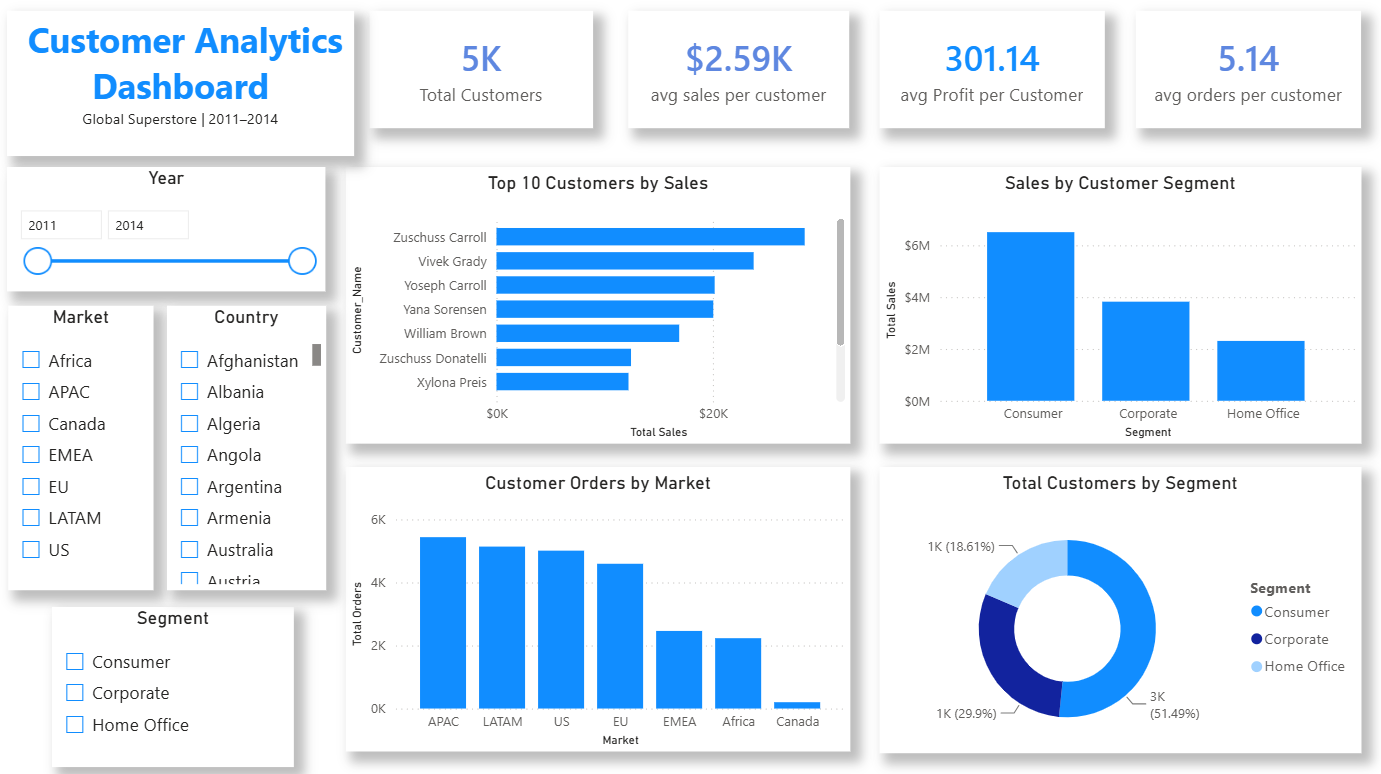

The page's visual inventory and layout, read from the dashboard file:
{"tool":"powerbi","page":{"name":"Page 3","canvas":[1280,720],"ordinal":2},"visuals":[{"type":"cardVisual","fields":{"Data":["Measures (2).Total Customers"]},"box":[342.9,13.1,206,108.3],"z":0},{"type":"cardVisual","fields":{"Data":["Measures (2).Average Sales per Customer"]},"box":[581,13.1,203.6,108.3],"z":1000},{"type":"cardVisual","fields":{"Data":["Measures (2).Average Profit per Customer"]},"box":[811.9,13.1,207.1,108.3],"z":2000},{"type":"cardVisual","fields":{"Data":["Measures (2).Average Orders per Customer"]},"box":[1047.6,13.1,207.1,108.3],"z":3000},{"type":"barChart","title":"Top 10 Customers by Sales","fields":{"Y":["Measures (2).Total Sales"],"Category":["superstore1.Customer_Name"]},"box":[320.2,156,464.3,254.8],"z":4000},{"type":"columnChart","title":"Sales by Customer Segment","fields":{"Y":["Measures (2).Total Sales"],"Category":["superstore1.Segment"]},"box":[811.9,156,442.9,254.8],"z":5000},{"type":"columnChart","title":"Customer Orders by Market","fields":{"Category":["superstore1.Market"],"Y":["Measures (2).Total Orders"]},"box":[320.2,432.1,464.3,261.9],"z":6000},{"type":"donutChart","title":"Total Customers by Segment","fields":{"Category":["superstore1.Segment"],"Y":["Measures (2).Total Customers"]},"box":[811.9,432.1,442.9,263.1],"z":7000},{"type":"textbox","box":[9.5,13.1,319,133.3],"z":8000},{"type":"slicer","title":"Year","fields":{"Values":["Calendar.Year"]},"box":[9.5,156,292.9,114.3],"z":9000},{"type":"slicer","title":"Market","fields":{"Values":["superstore1.Market"]},"box":[10,283.8,133.8,261.2],"z":10000},{"type":"slicer","title":"Segment","fields":{"Values":["superstore1.Segment"]},"box":[50,561.2,222.5,147.5],"z":11000},{"type":"slicer","title":"Country","fields":{"Values":["superstore1.Country"]},"box":[156.2,283.8,146.2,261.2],"z":12000}]}

Visuals, with their boxes in screenshot pixels (x1, y1, x2, y2), scaled from the page's 1280x720 canvas onto the 1381x774 screenshot:
cardVisual - Measures (2).Total Customers: left=370, top=14, right=592, bottom=131
cardVisual - Measures (2).Average Sales per Customer: left=627, top=14, right=847, bottom=131
cardVisual - Measures (2).Average Profit per Customer: left=876, top=14, right=1099, bottom=131
cardVisual - Measures (2).Average Orders per Customer: left=1130, top=14, right=1354, bottom=131
"Top 10 Customers by Sales" barChart: left=345, top=168, right=846, bottom=442
"Sales by Customer Segment" columnChart: left=876, top=168, right=1354, bottom=442
"Customer Orders by Market" columnChart: left=345, top=465, right=846, bottom=746
"Total Customers by Segment" donutChart: left=876, top=465, right=1354, bottom=747
textbox: left=10, top=14, right=354, bottom=157
"Year" slicer: left=10, top=168, right=326, bottom=291
"Market" slicer: left=11, top=305, right=155, bottom=586
"Segment" slicer: left=54, top=603, right=294, bottom=762
"Country" slicer: left=169, top=305, right=326, bottom=586
